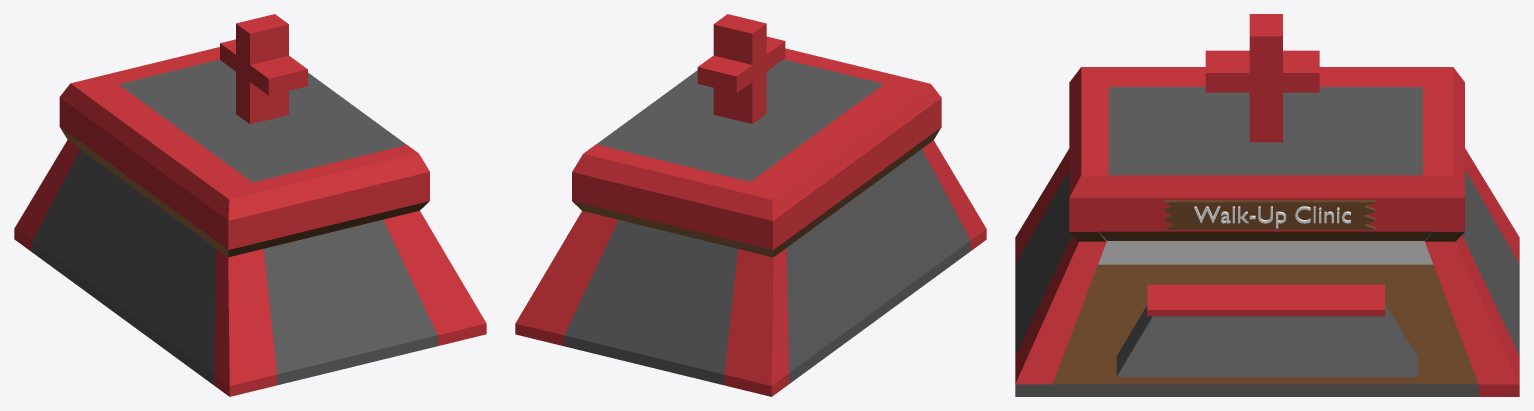
The model's file is Health.fbx.
The picture shows the model from 3 angles, left to right: view 1: azimuth 30°, elevation 25°; view 2: azimuth 150°, elevation 25°; view 3: azimuth 270°, elevation 25°; orthographic projection. The views are drawn at different scales.
Parts seen in each view (by area): view 1: Cube; view 2: Cube; view 3: Cube, Cube.001, Text.
Part boxes in pixels (x1,y1,x2,y2): Cube: (14, 14, 486, 396); Cube: (515, 14, 986, 396); Cube: (1015, 14, 1519, 396); Cube.001: (1164, 200, 1375, 229); Text: (1194, 206, 1350, 228).
Bounding box in the file's own units: 1008 × 977 × 1464.
